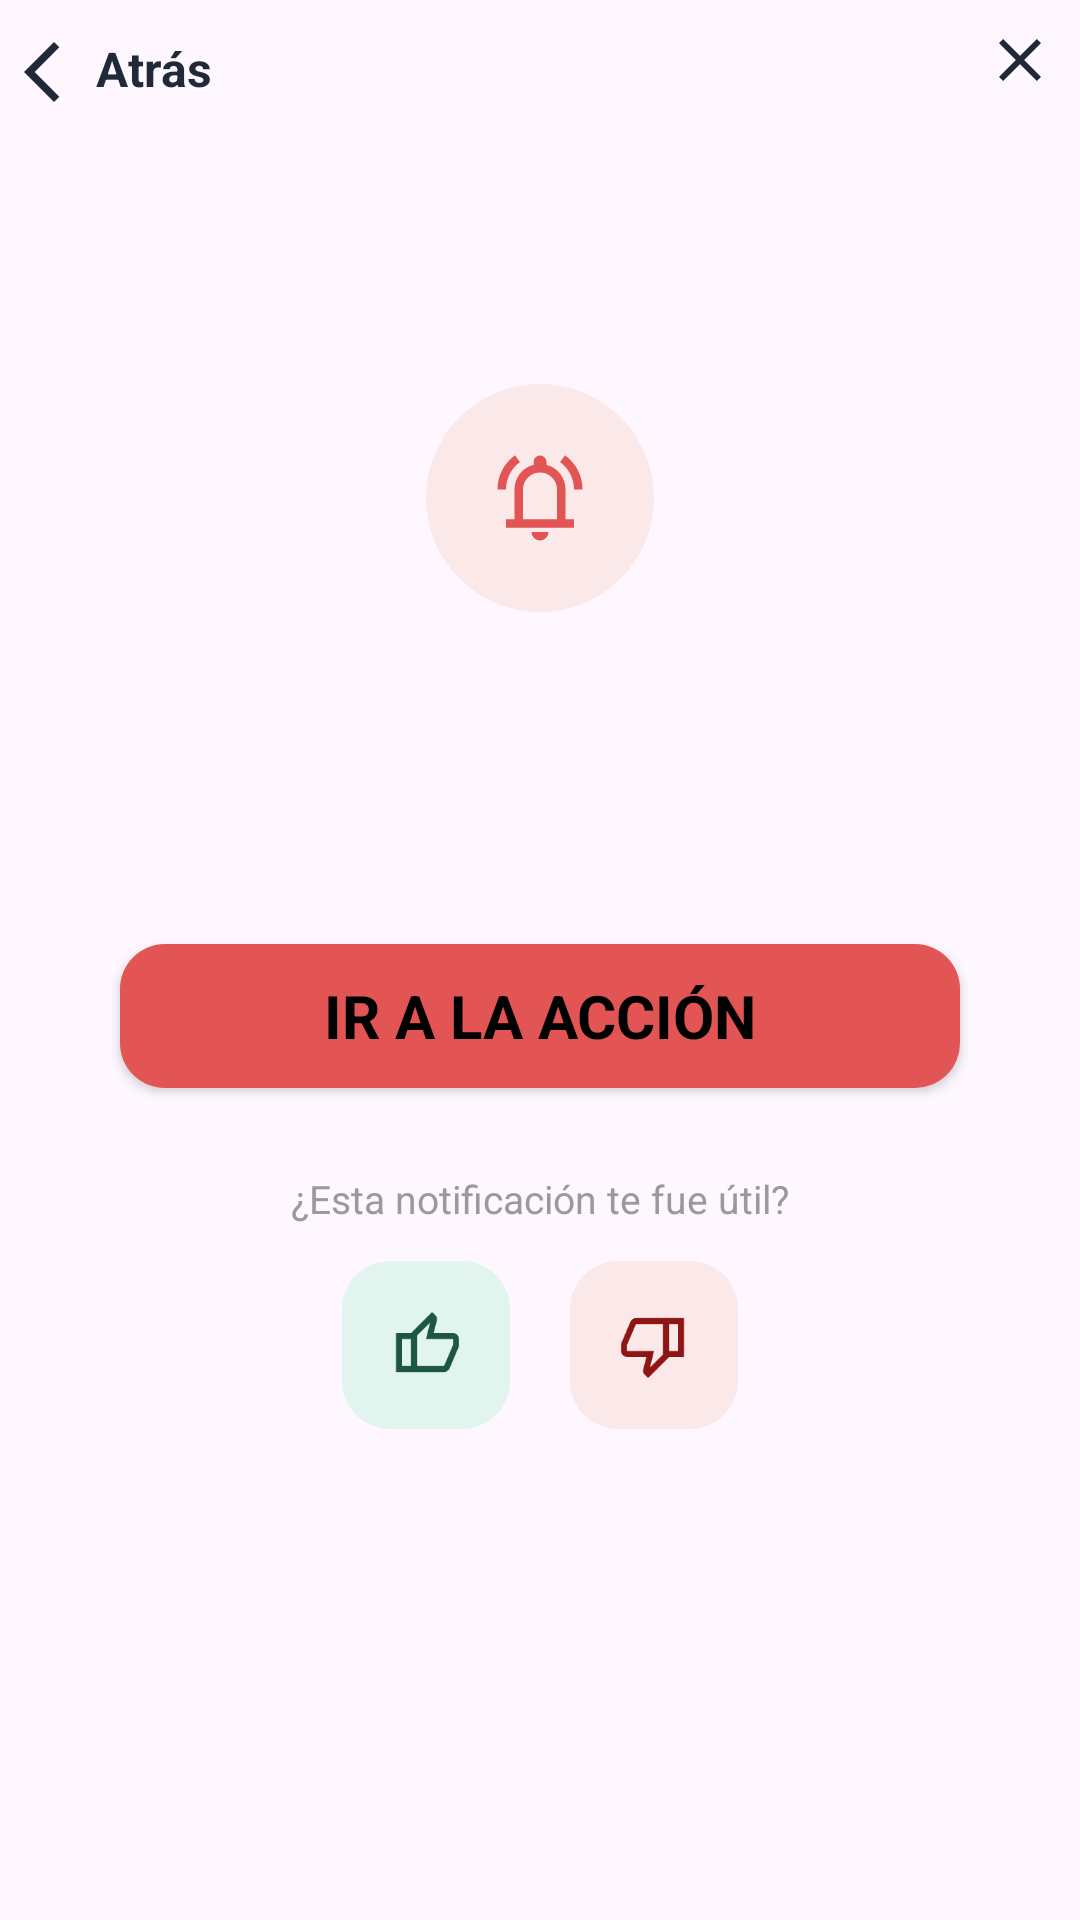

Icons on this 1080 x 1920 Android screen, each with the point to tap as (x=x, y=y):
back: (x=41, y=72)
close: (x=1020, y=60)
Icono de notificación: (x=540, y=498)
Me gusta: (x=426, y=1345)
No me gusta: (x=654, y=1345)
